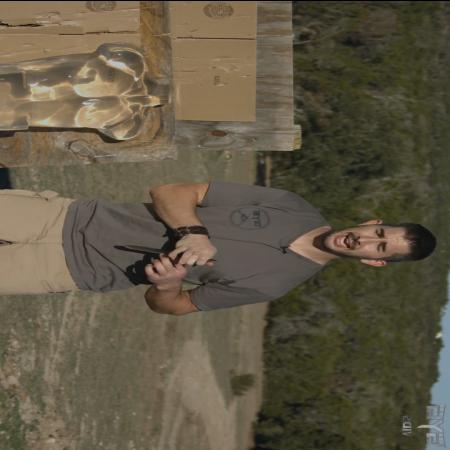long weapon: (111, 241, 223, 266)
